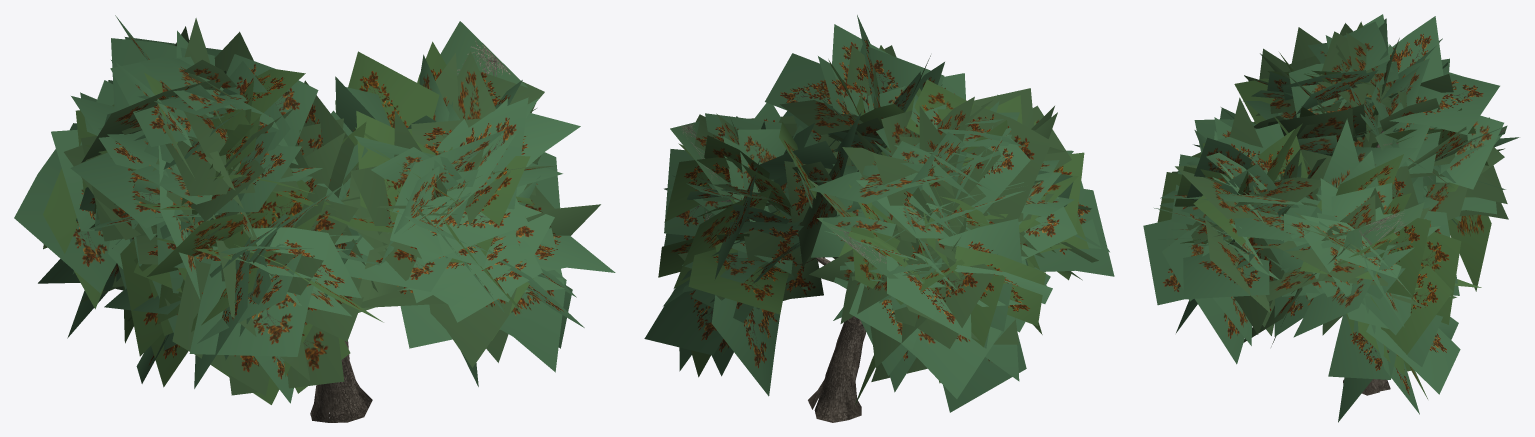
File: btree_oak_autumn.glb
The picture shows the model from 3 angles, left to right: view 1: azimuth 30°, elevation 25°; view 2: azimuth 150°, elevation 25°; view 3: azimuth 270°, elevation 25°; orthographic projection. The views are drawn at different scales.
Visible parts, largest first — view 1: btree_oak_autumn_LOD0; view 2: btree_oak_autumn_LOD0; view 3: btree_oak_autumn_LOD0.
Part boxes in pixels (x1,y1,x2,y2): btree_oak_autumn_LOD0: [14, 15, 615, 422]; btree_oak_autumn_LOD0: [644, 15, 1114, 422]; btree_oak_autumn_LOD0: [1143, 14, 1519, 422].
Size of the model in its own units: 12.38 by 9.66 by 10.77.
1 material, 1 textured.
